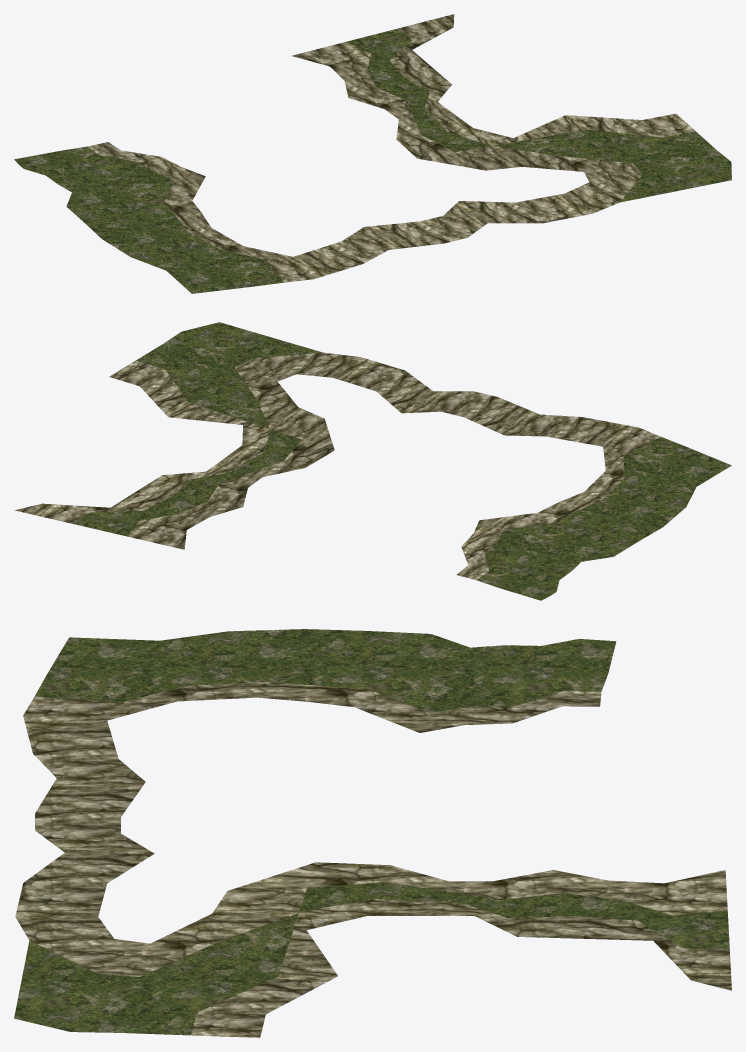
The model's file is CB_NEWPLAYSURFACE_CB_PLAYSURFACE36.fbx.
The picture shows the model from 3 angles, top to bottom: view 1: azimuth 30°, elevation 25°; view 2: azimuth 150°, elevation 25°; view 3: azimuth 270°, elevation 25°; orthographic projection. The views are drawn at different scales.
Parts seen in each view (by area): view 1: CB_NEWPLAYSURFACE_CB_PLAYSURFACE36; view 2: CB_NEWPLAYSURFACE_CB_PLAYSURFACE36; view 3: CB_NEWPLAYSURFACE_CB_PLAYSURFACE36.
Boxes of the visible parts, x1,y1,x2,y2 form: CB_NEWPLAYSURFACE_CB_PLAYSURFACE36: (14,14,731,293); CB_NEWPLAYSURFACE_CB_PLAYSURFACE36: (14,322,731,600); CB_NEWPLAYSURFACE_CB_PLAYSURFACE36: (14,629,731,1037).
Bounding box in the file's own units: 498151 × 1053 × 369723.
Materials: 2 (2 with a texture image).
